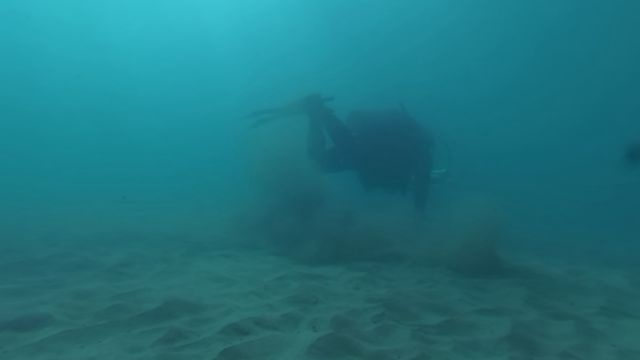Diver: (226, 67, 477, 248)
